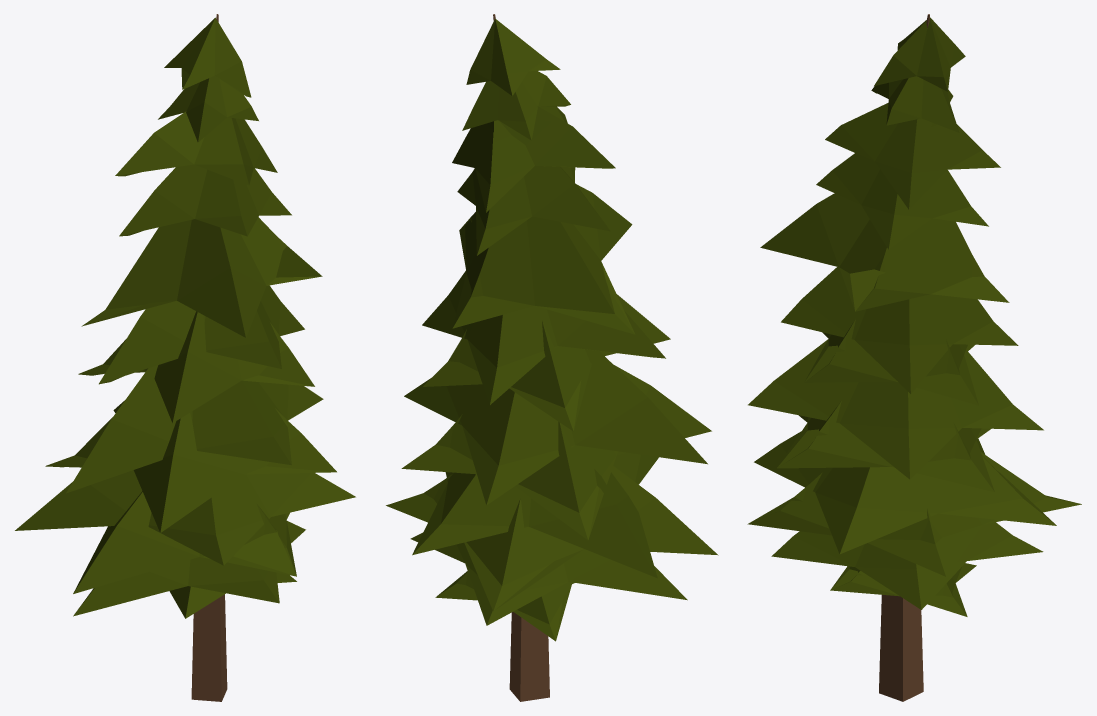
File: mesh_tree5_2.fbx
3 views of the same model, side by side, from view 1: azimuth 30°, elevation 25°; view 2: azimuth 150°, elevation 25°; view 3: azimuth 270°, elevation 25° (orthographic). The views are drawn at different scales.
Visible parts, largest first — view 1: mesh_tree5_2; view 2: mesh_tree5_2; view 3: mesh_tree5_2.
Boxes of the visible parts, x1,y1,x2,y2 form: mesh_tree5_2: (15,14,355,701); mesh_tree5_2: (386,14,718,701); mesh_tree5_2: (747,14,1081,701).
Bounding box in the file's own units: 2.98 × 6.79 × 2.99.
